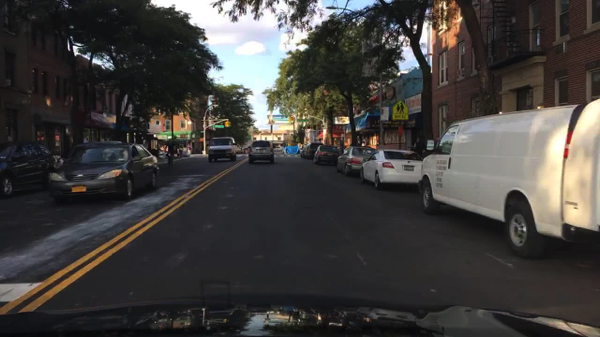car: (419, 99, 599, 260), (46, 141, 157, 203), (0, 140, 65, 198), (359, 147, 422, 190), (335, 146, 375, 176), (206, 138, 238, 162), (248, 140, 275, 164), (312, 145, 339, 166), (304, 142, 324, 160), (181, 148, 192, 155), (300, 146, 305, 157), (274, 146, 282, 152), (282, 147, 287, 154)
person: (167, 149, 173, 169), (179, 144, 183, 157)
traffic light: (291, 115, 294, 124), (199, 138, 204, 143), (223, 120, 226, 128), (287, 117, 291, 123), (226, 121, 229, 128), (229, 121, 232, 128), (294, 117, 297, 123)
traffic sign: (391, 99, 409, 121), (212, 125, 223, 128), (300, 119, 310, 122)
